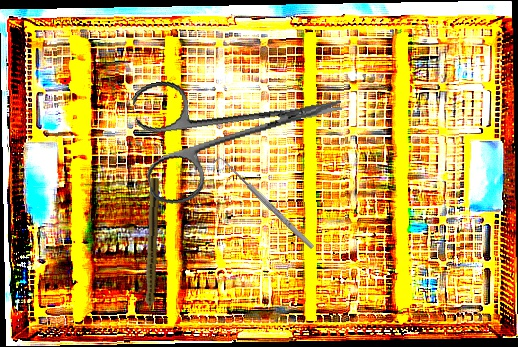Handpiece: (142, 177, 160, 323)
Hook Surgical: (211, 152, 317, 255)
Iris Scissors: (130, 48, 354, 209)
